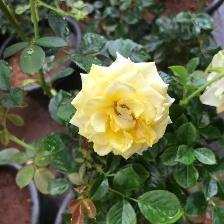rose: (69, 52, 177, 162)
